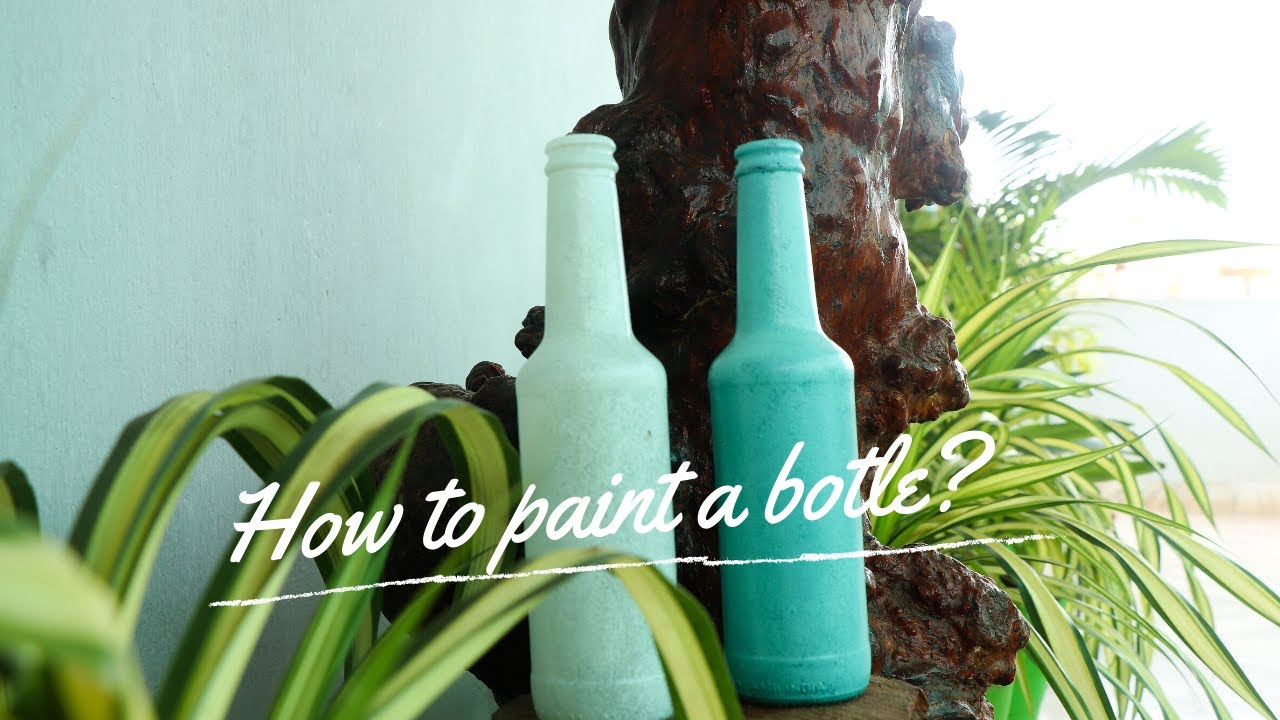glass_bottle: (697, 123, 878, 720), (512, 128, 686, 720)
